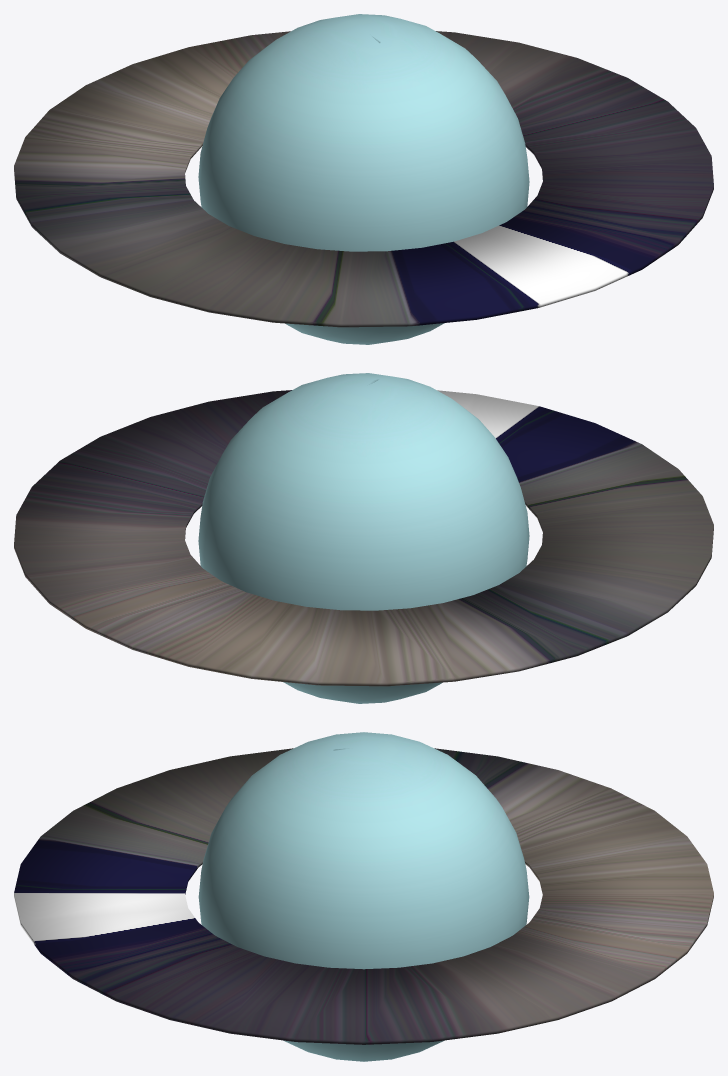
File: uranus.fbx
3 renders of one model, top to bottom at view 1: azimuth 30°, elevation 25°; view 2: azimuth 150°, elevation 25°; view 3: azimuth 270°, elevation 25°, orthographic.
Visible parts, largest first — view 1: uranus (rings), your anus; view 2: uranus (rings), your anus; view 3: uranus (rings), your anus.
Boxes of the visible parts, x1=… form: uranus (rings): x1=14, y1=31, x2=713, y2=327; your anus: x1=198, y1=14, x2=529, y2=344; uranus (rings): x1=14, y1=390, x2=713, y2=686; your anus: x1=198, y1=373, x2=529, y2=703; uranus (rings): x1=14, y1=748, x2=713, y2=1044; your anus: x1=198, y1=732, x2=529, y2=1061.
Size of the model in its own units: 4.23 by 2 by 4.23.
Materials: 2 (2 with a texture image).
